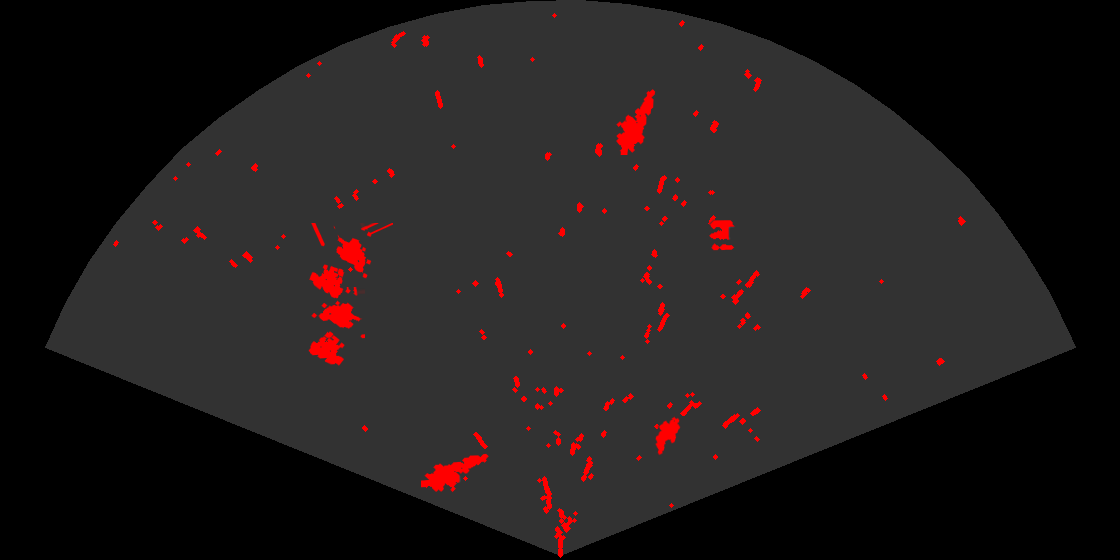AUV: (654, 415, 682, 457)
ball: (708, 219, 736, 252)
cage: (308, 223, 393, 300), (307, 287, 365, 367)
frogman: (421, 452, 490, 494), (615, 88, 657, 155)
